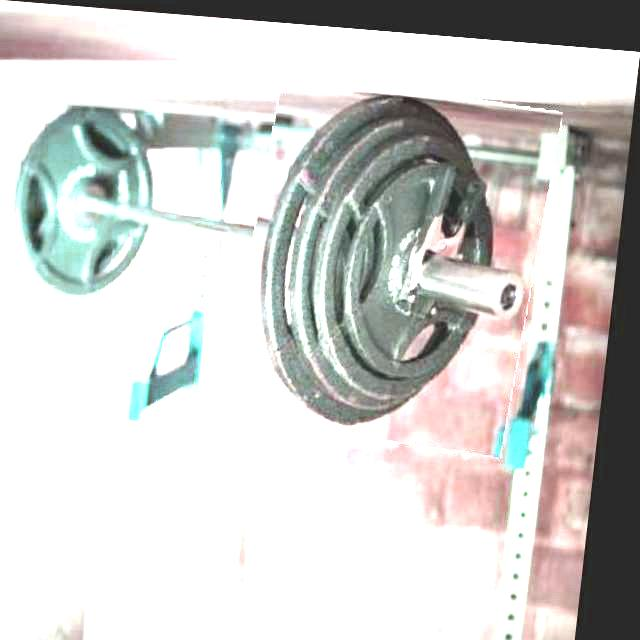barbell: (236, 70, 560, 445)
